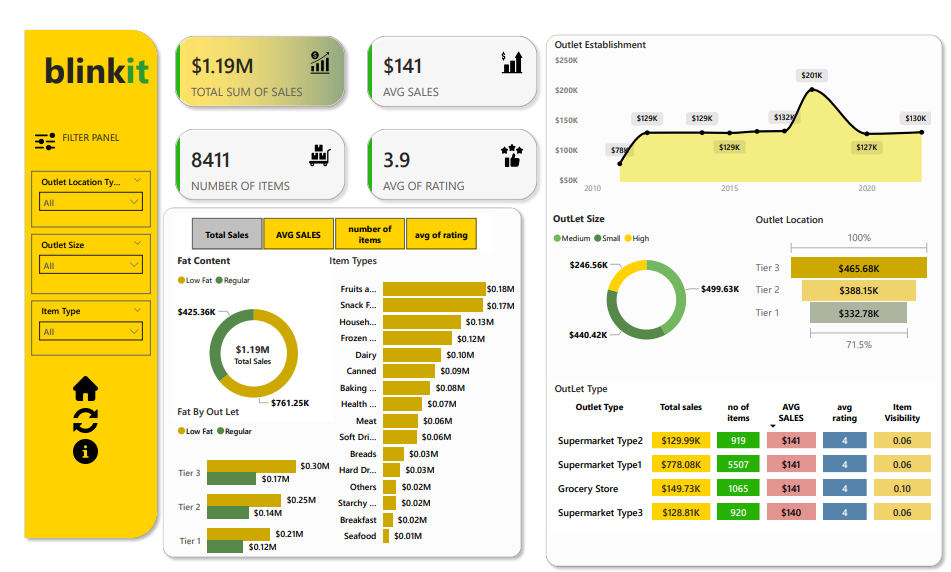

What the dashboard file says about the page in this screenshot:
{"tool":"powerbi","page":{"name":"Dashboard","canvas":[1300,800],"ordinal":0},"visuals":[{"type":"shape","box":[16.4,26.8,199.3,719.7],"z":0},{"type":"textbox","box":[29.7,50.6,185.9,86.2],"z":1000},{"type":"cardVisual","fields":{"Data":["BlinkIT Grocery Data.total sum of sales","BlinkIT Grocery Data.avg of sum","BlinkIT Grocery Data.number of items","BlinkIT Grocery Data.avg of rating"]},"box":[215.6,26.8,533.8,261.7],"z":2000},{"type":"shape","box":[206.7,272.1,511.5,499.6],"z":3000},{"type":"donutChart","title":"Fat Content","fields":{"Y":["BlinkIT Grocery Data.Total sales"],"Category":["BlinkIT Grocery Data.Item Fat Content"]},"box":[230.5,345,220.1,230.5],"z":4000},{"type":"slicer","fields":{"Values":["Metrics.Metrics"]},"box":[229,288.5,443.1,56.5],"z":5000},{"type":"cardVisual","fields":{"Data":["BlinkIT Grocery Data.Total sales"]},"box":[294.4,446.1,90.7,75.8],"z":6000},{"type":"clusteredBarChart","title":"Fat By Out Let","fields":{"Y":["BlinkIT Grocery Data.Total sales"],"Category":["BlinkIT Grocery Data.Outlet Location Type"],"Series":["BlinkIT Grocery Data.Item Fat Content"]},"box":[230.5,553.2,220.1,230.5],"z":7000},{"type":"barChart","title":"Item Types","fields":{"Y":["BlinkIT Grocery Data.Total sales"],"Category":["BlinkIT Grocery Data.Item Type"]},"box":[440.1,345,266.2,413.4],"z":8000},{"type":"shape","box":[734.6,34.2,565.1,749.4],"z":9000},{"type":"lineChart","title":"Outlet Establishment ","fields":{"Category":["BlinkIT Grocery Data.Outlet Establishment Year"],"Y":["BlinkIT Grocery Data.Total sales"]},"box":[750.9,46.1,529.4,226],"z":10000},{"type":"donutChart","title":"OutLet Size","fields":{"Y":["BlinkIT Grocery Data.Total sales"],"Category":["BlinkIT Grocery Data.Outlet Size"]},"box":[749.4,287,267.7,197.8],"z":11000},{"type":"funnel","title":"Outlet Location ","fields":{"Y":["BlinkIT Grocery Data.Total sales"],"Category":["BlinkIT Grocery Data.Outlet Location Type"]},"box":[1029,288.5,251.3,196.3],"z":12000},{"type":"pivotTable","title":"OutLet Type","fields":{"Rows":["BlinkIT Grocery Data.Outlet Type"],"Values":["BlinkIT Grocery Data.Total sales","BlinkIT Grocery Data.number of items","BlinkIT Grocery Data.AVG SALES","BlinkIT Grocery Data.avg of rating","Avg(BlinkIT Grocery Data.Item Visibility)"]},"box":[750.9,521.9,530.9,211.2],"z":13000},{"type":"slicer","fields":{"Values":["BlinkIT Grocery Data.Outlet Location Type"]},"box":[32.7,230.5,165.1,77.3],"z":14000},{"type":"slicer","fields":{"Values":["BlinkIT Grocery Data.Outlet Size"]},"box":[32.7,316.7,165.1,83.3],"z":15000},{"type":"slicer","fields":{"Values":["BlinkIT Grocery Data.Item Type"]},"box":[32.7,408.9,165.1,75.8],"z":16000},{"type":"image","box":[32.7,169.5,38.7,38.7],"z":17000},{"type":"textbox","box":[71.4,169.5,99.6,40.1],"z":18000},{"type":"image","box":[71.4,553.2,71.4,43.1],"z":19000},{"type":"image","box":[71.4,508.6,71.4,43],"z":20000},{"type":"image","box":[71.4,596.3,71.4,43.1],"z":21000}]}

Visuals, with their boxes in screenshot pixels (x1, y1, x2, y2), scaled from the page's 1300x800 canvas onto the 951x572 screenshot:
shape: 12:19:158:534
textbox: 22:36:158:98
cardVisual - BlinkIT Grocery Data.total sum of sales x BlinkIT Grocery Data.avg of sum: 158:19:548:206
shape: 151:195:525:552
"Fat Content" donutChart: 169:247:330:411
slicer - Metrics.Metrics: 168:206:492:247
cardVisual - BlinkIT Grocery Data.Total sales: 215:319:282:373
"Fat By Out Let" clusteredBarChart: 169:396:330:560
"Item Types" barChart: 322:247:517:542
shape: 537:24:950:560
"Outlet Establishment " lineChart: 549:33:937:195
"OutLet Size" donutChart: 548:205:744:347
"Outlet Location " funnel: 753:206:937:347
"OutLet Type" pivotTable: 549:373:938:524
slicer - BlinkIT Grocery Data.Outlet Location Type: 24:165:145:220
slicer - BlinkIT Grocery Data.Outlet Size: 24:226:145:286
slicer - BlinkIT Grocery Data.Item Type: 24:292:145:347
image: 24:121:52:149
textbox: 52:121:125:150
image: 52:396:104:426
image: 52:364:104:394
image: 52:426:104:457
